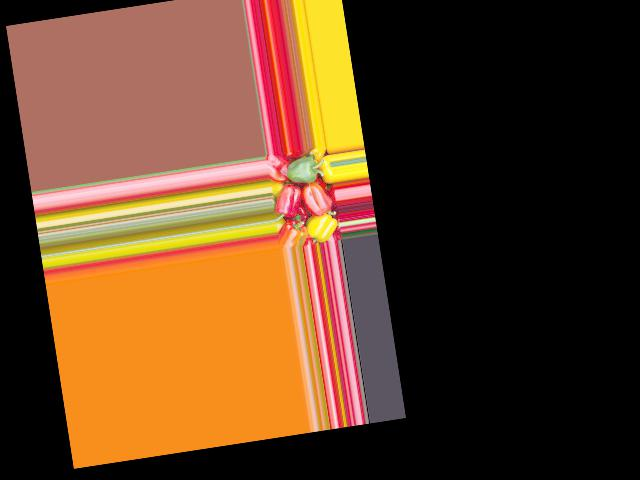bell_pepper: (303, 210, 341, 244)
